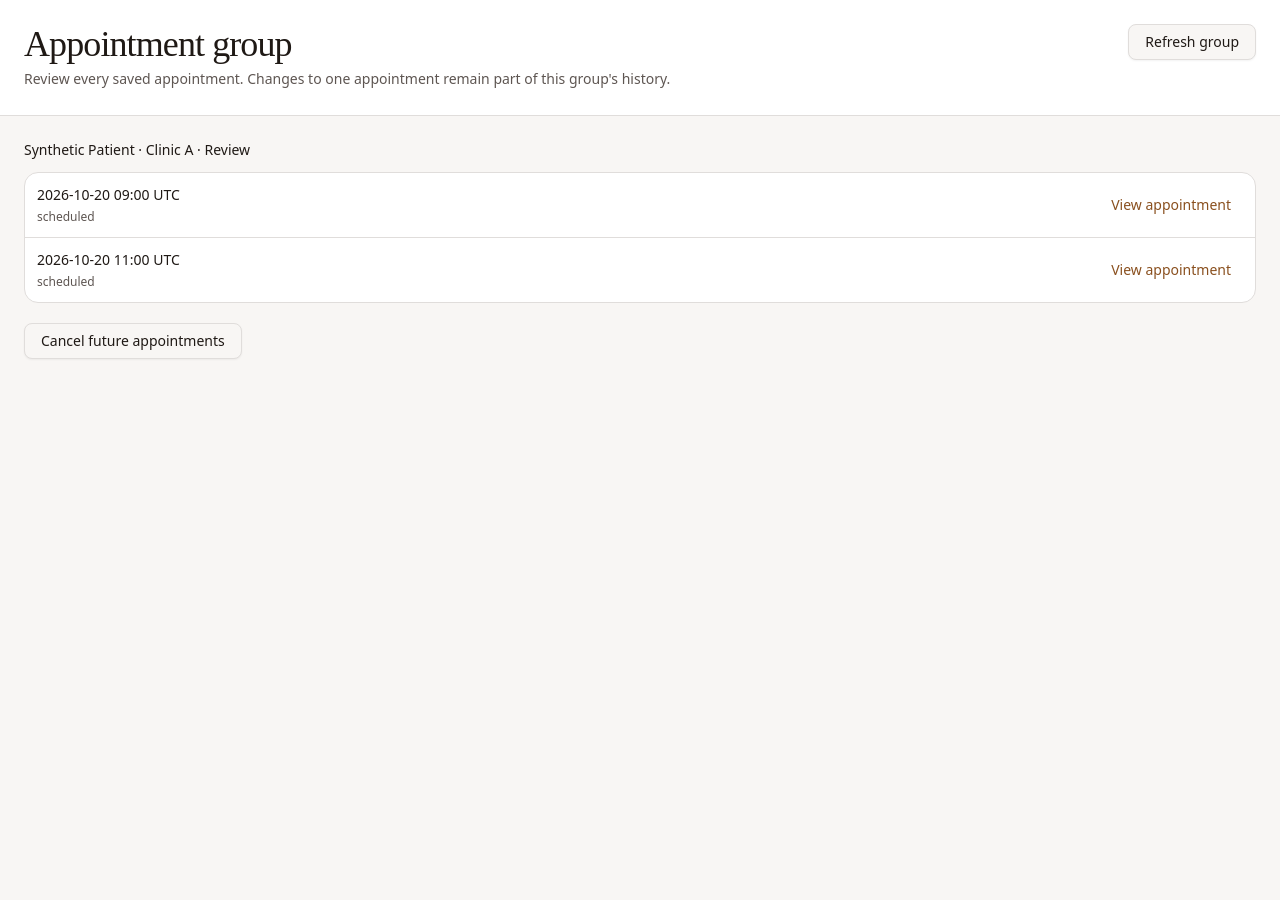
Test: appointment series through reachable pages and the real generated client › retains exact cancellation replay across close and fresh group refresh
Step 1. Click the button "Cancel future appointments" → [133, 341], box [24,323,242,359]
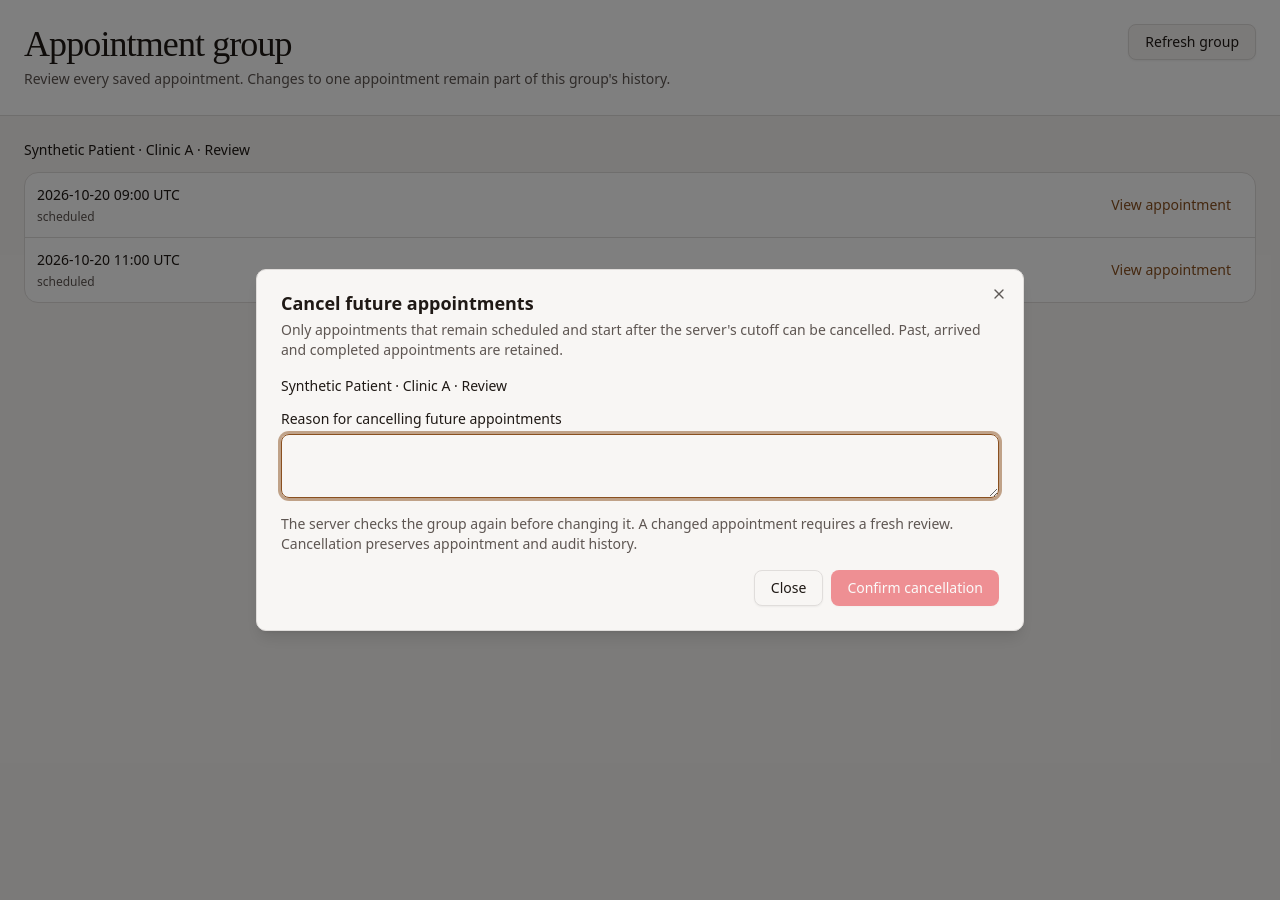
Step 2. Type "Plans changed" into the text box labelled "Reason for cancelling future appointments" → [640, 466], box [281,434,999,498]
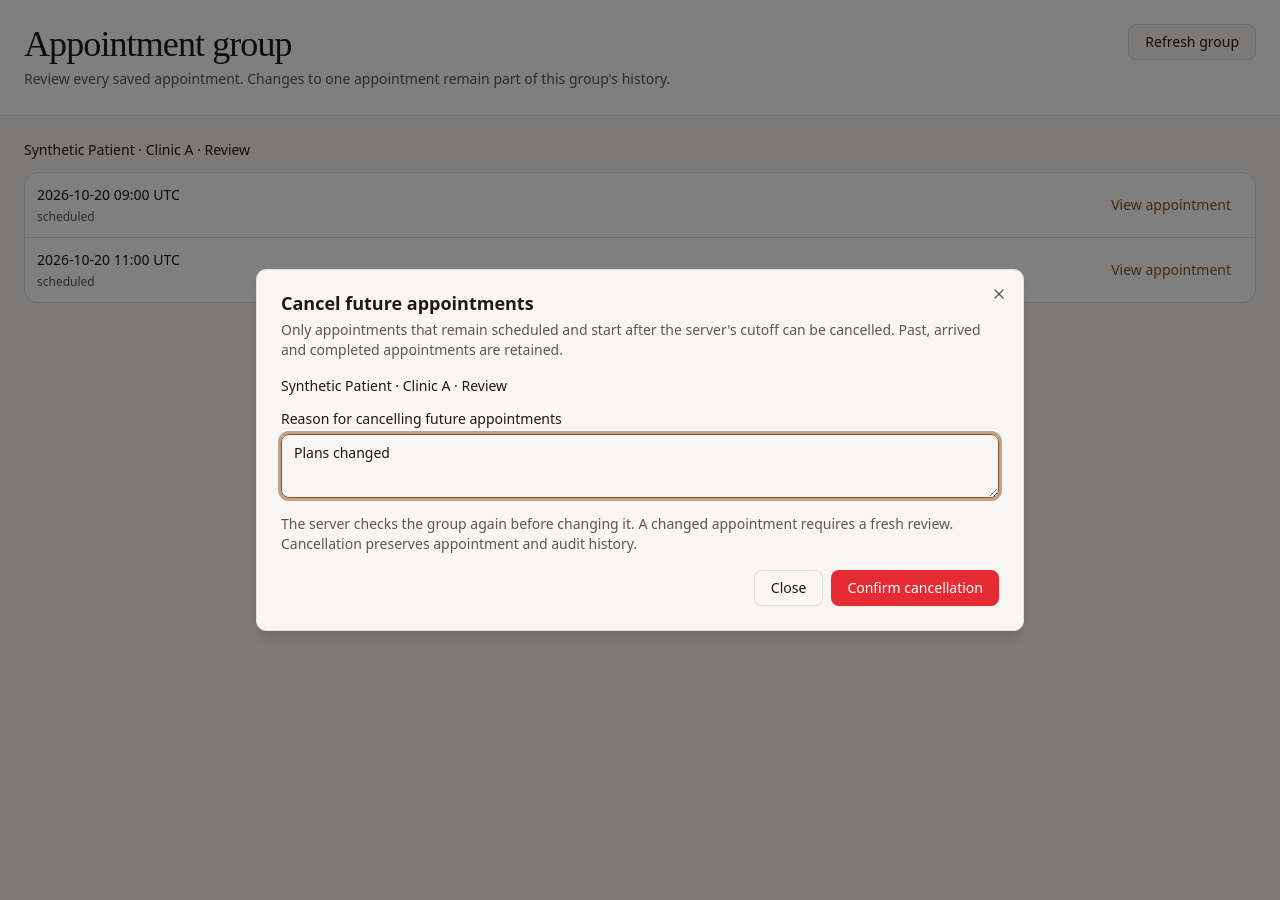
Step 3. Click the button "Confirm cancellation" → [915, 588], box [831,570,999,606]
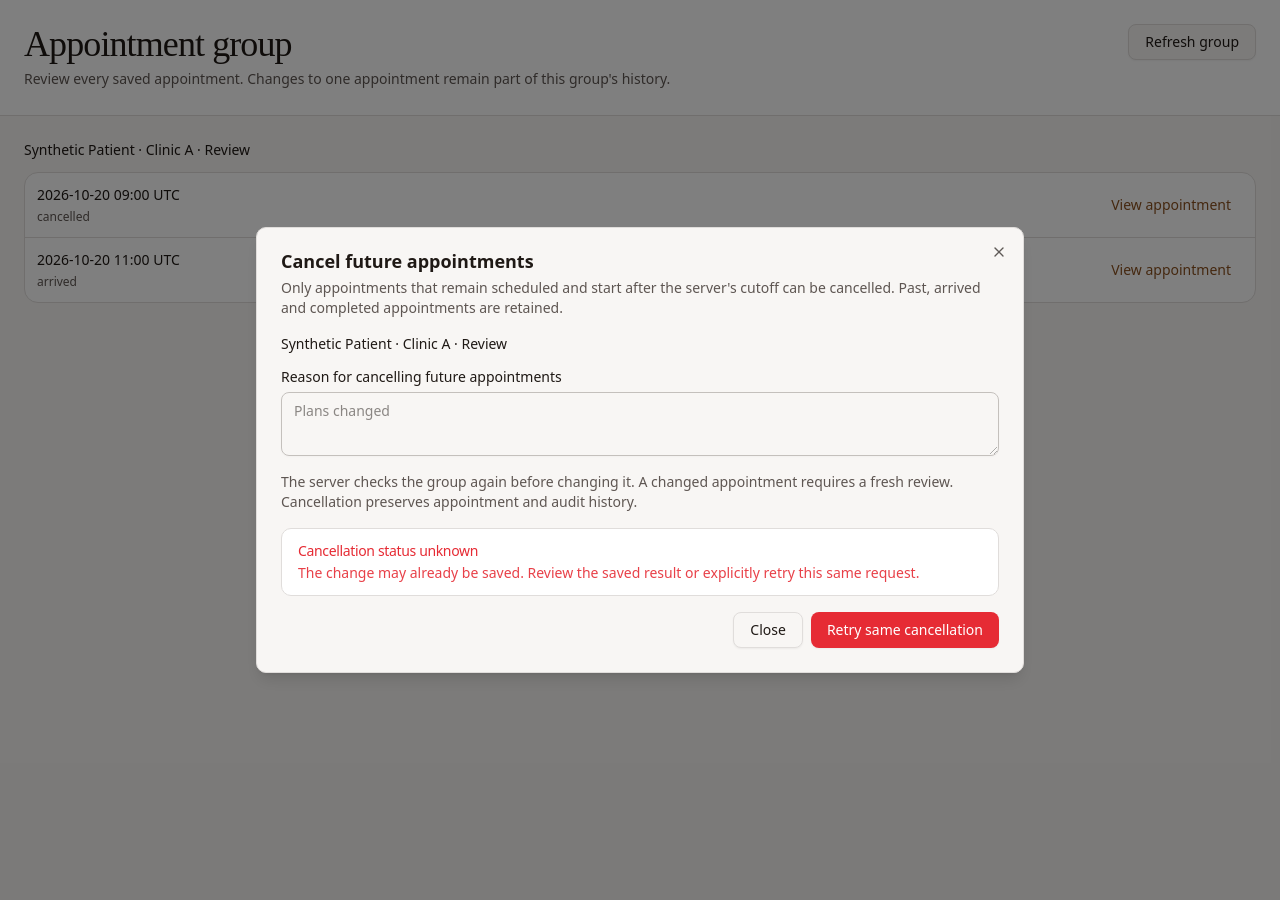
expect the text "Cancellation status unknown" is shown: met, box [298,541,478,560]
Step 4. Click the button "Close" → [768, 630], box [733,612,803,648]
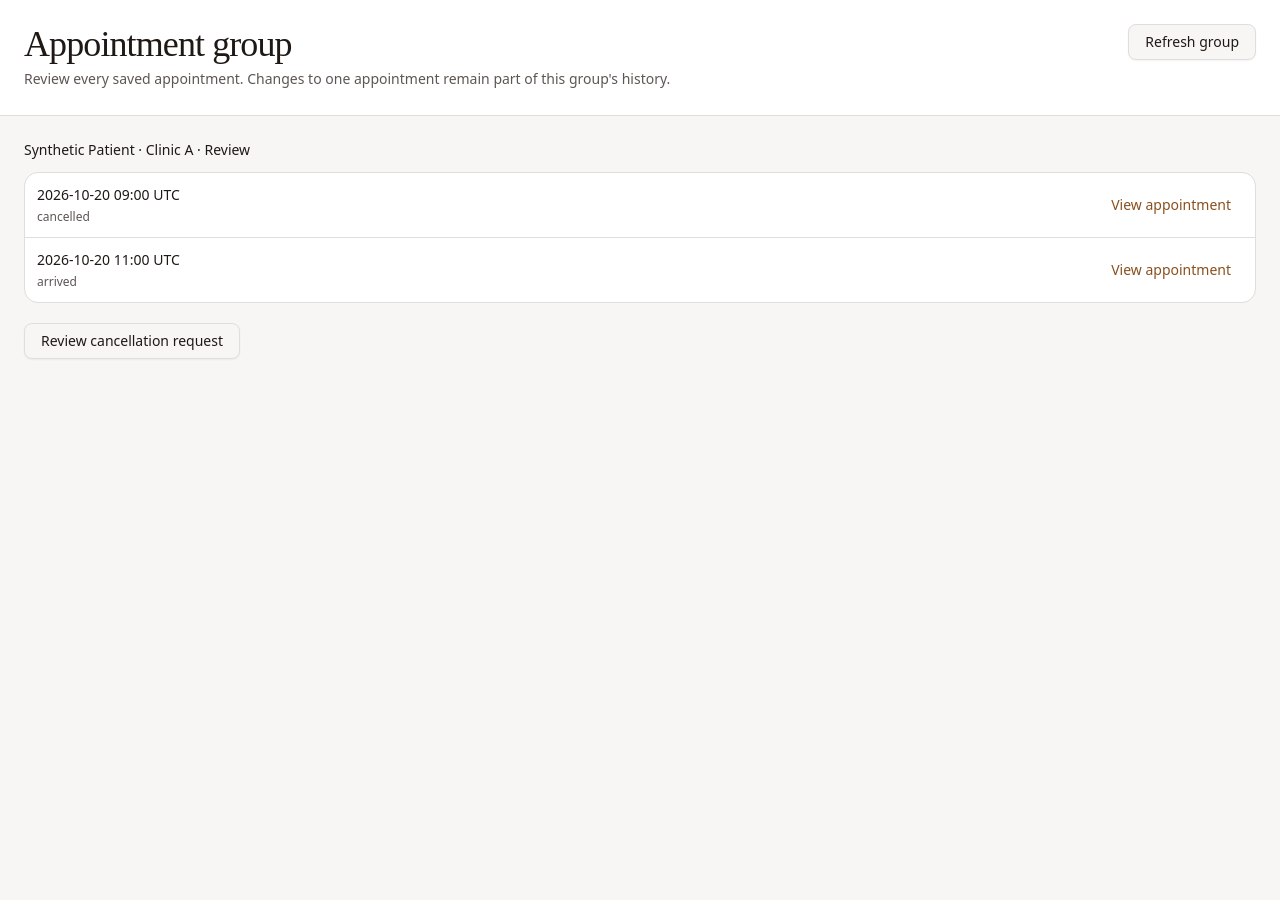
Step 5. Click the button "Review cancellation request" → [132, 341], box [24,323,240,359]
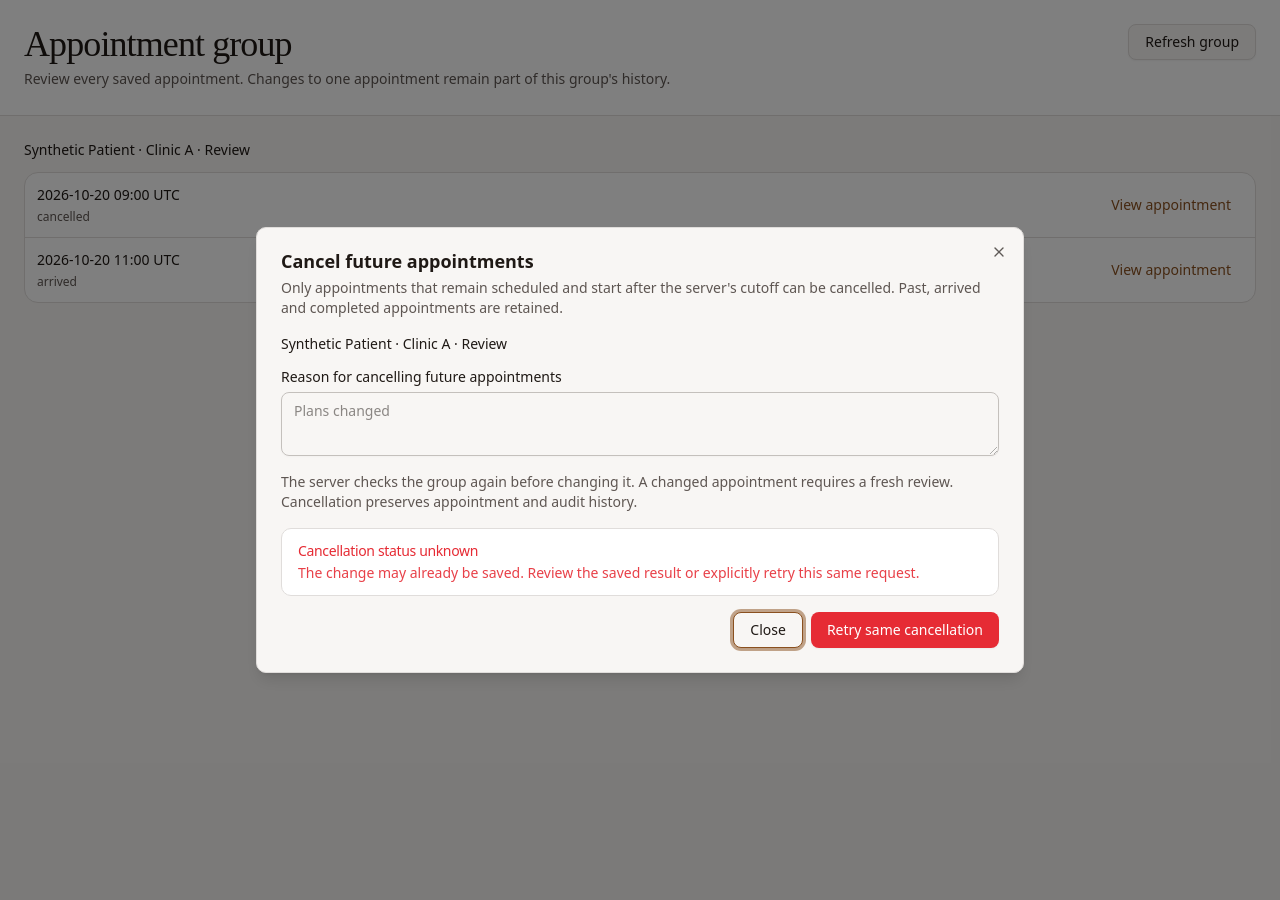
expect the text "Cancellation status unknown" is shown: met, box [298,541,478,560]
Step 6. Click the button "Retry same cancellation" → [905, 630], box [811,612,999,648]
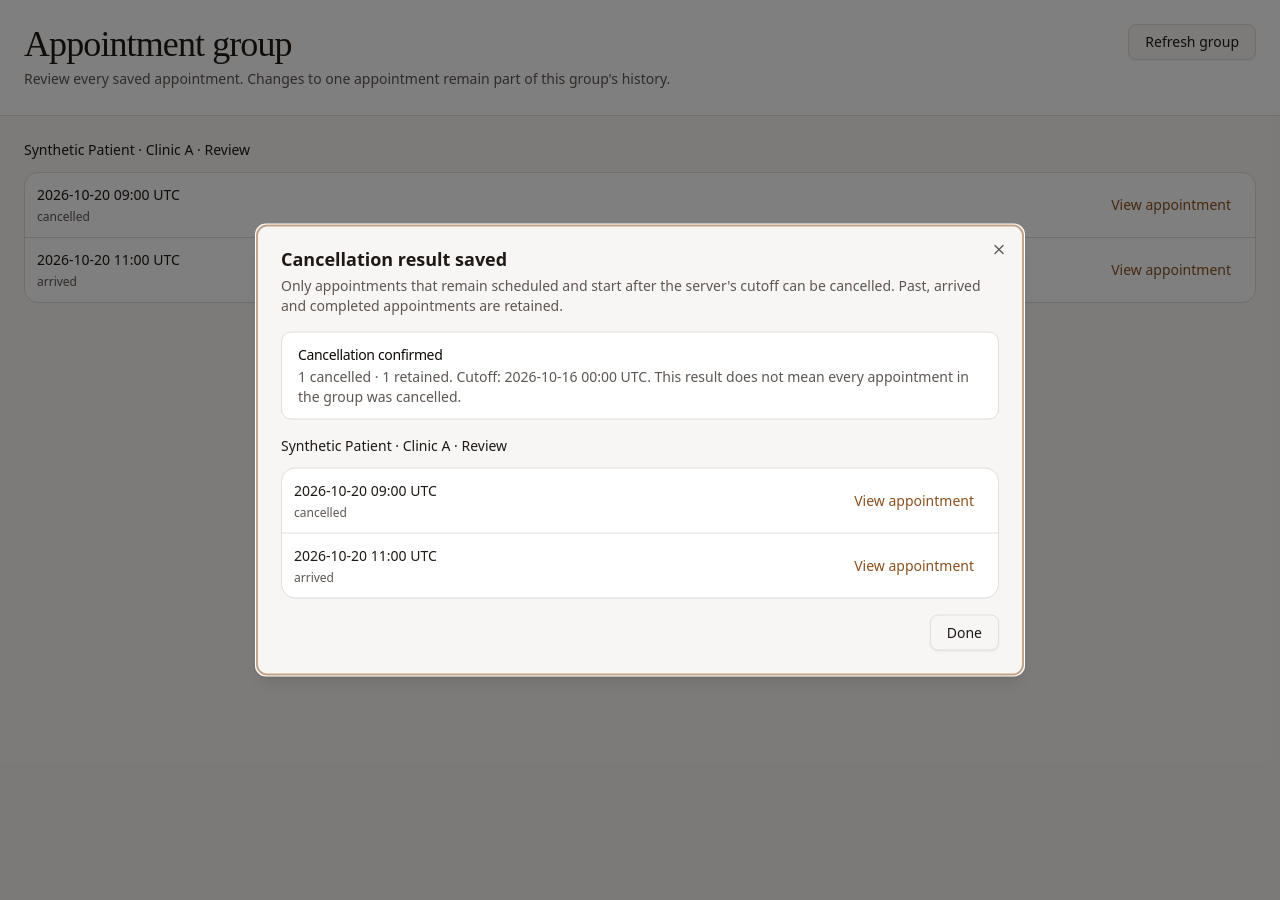
expect the text "Cancellation confirmed" is shown: met, box [298,344,442,364]
expect the text "1 cancelled · 1 retained" is shown: met, box [298,366,982,406]
